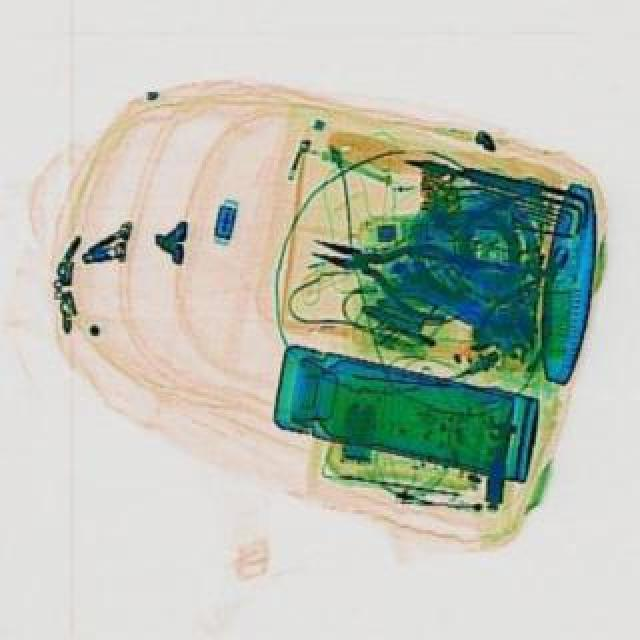wrench: (296, 208, 470, 324)
